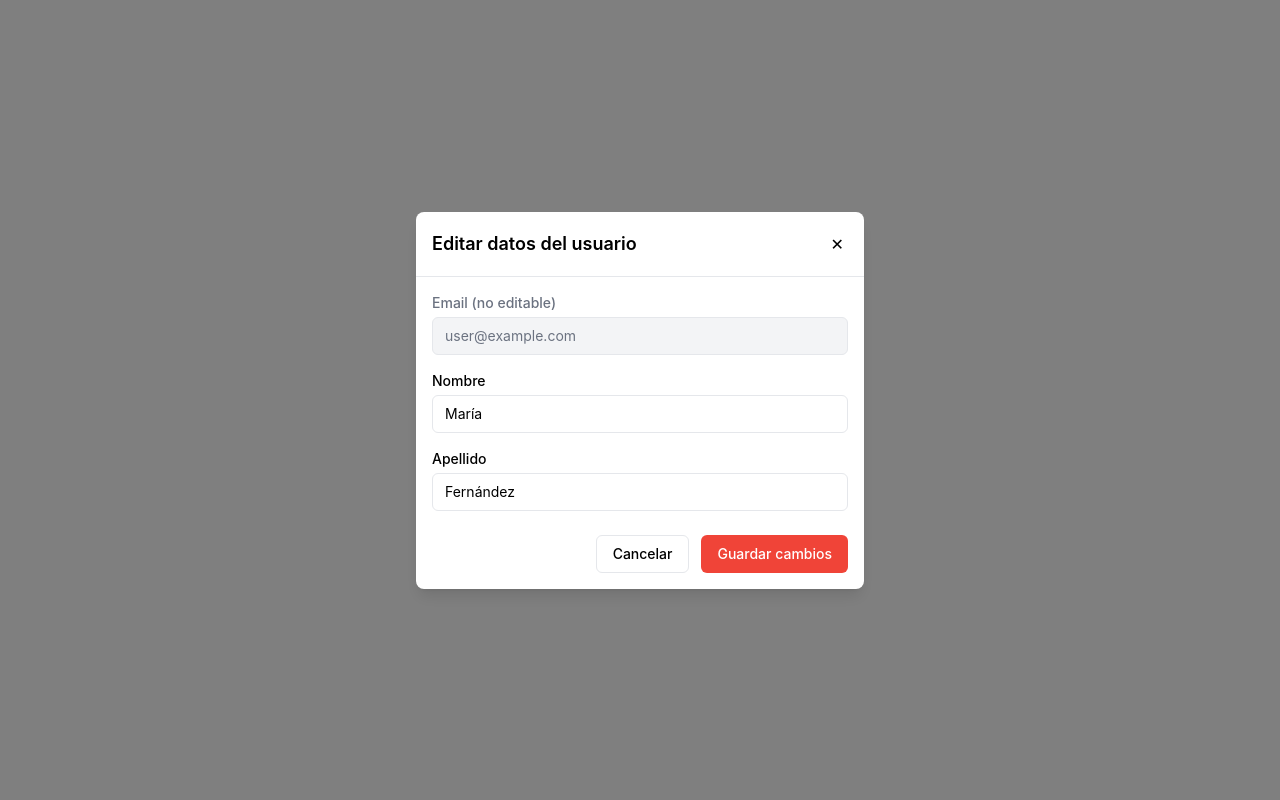
Scenario: EditUserModal › shows serverError on mutation error
What coordinates should you click on to do the following:
click the button "Guardar cambios"
I would click on:
 (775, 554)
Its box is [702,534,848,572].
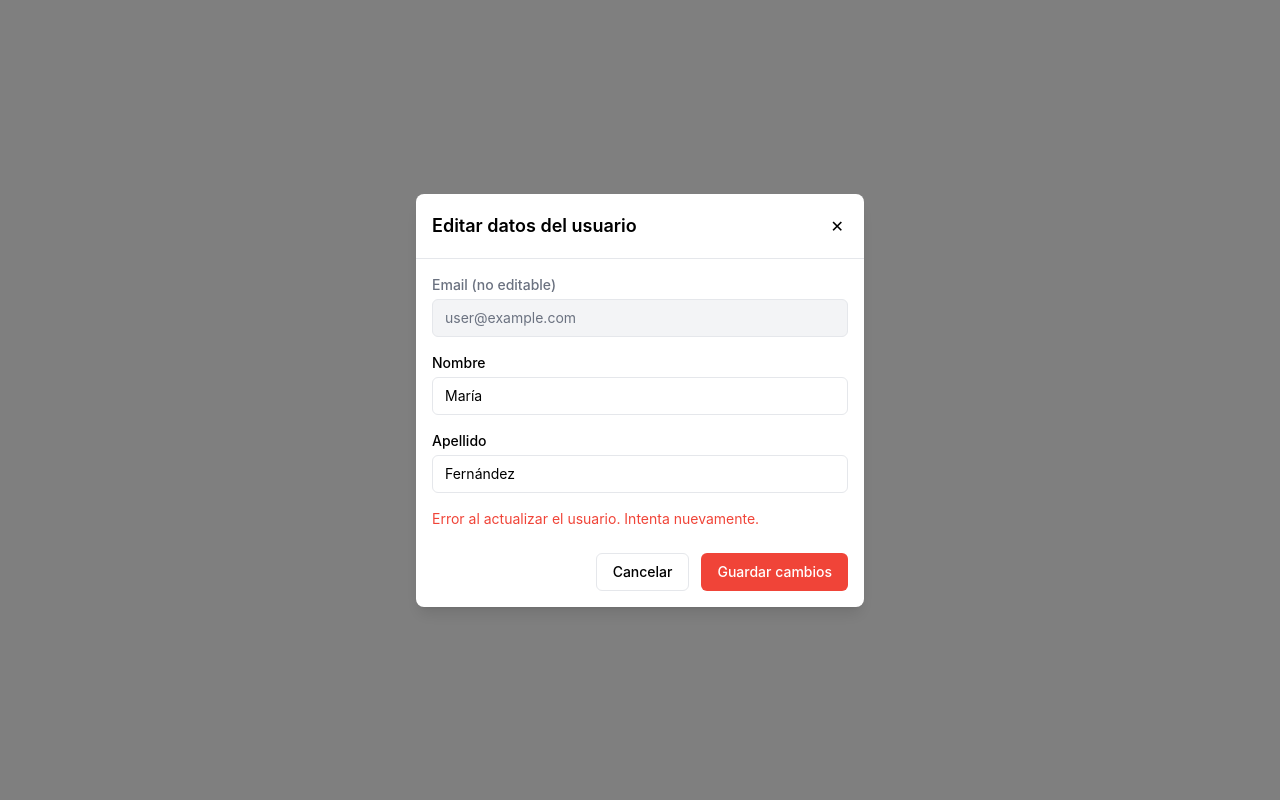
Result: the text "Error al actualizar el usuario. Intenta nuevamente." is shown at [432,510,759,526]
